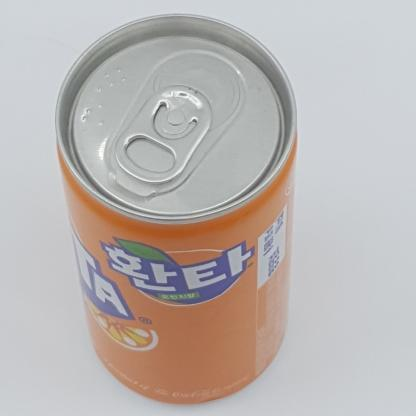-------185ML: (55, 13, 297, 404)
